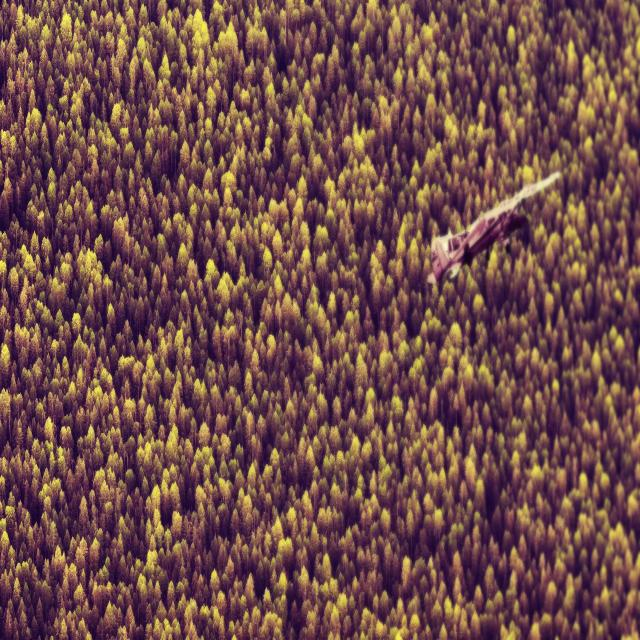airplane: (426, 170, 560, 290)
